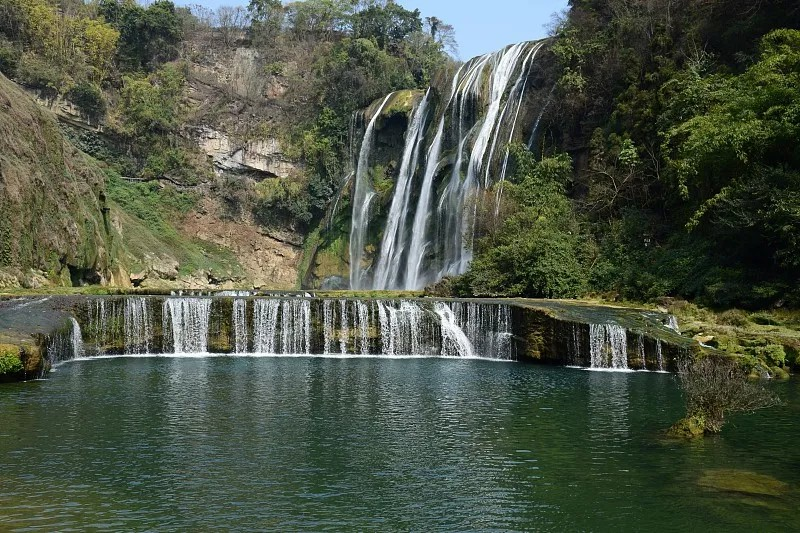Huangguoshu: (349, 40, 547, 289)
